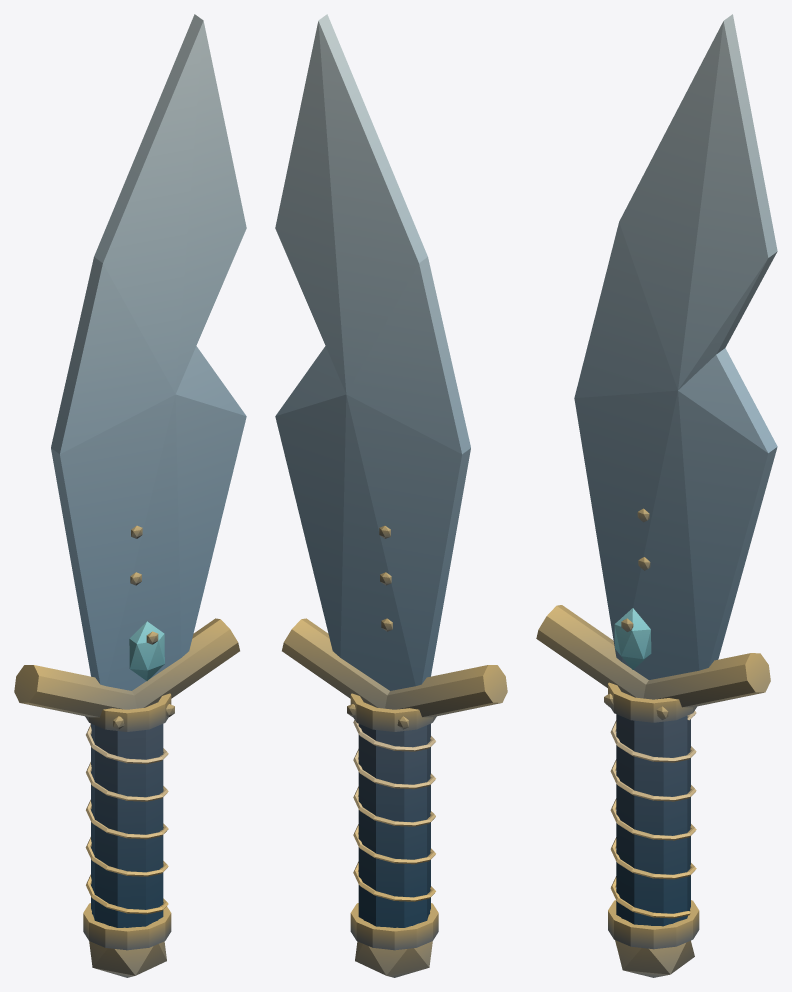
The model's file is daga_aleta_coral.glb.
The picture shows the model from 3 angles, left to right: view 1: azimuth 30°, elevation 25°; view 2: azimuth 150°, elevation 25°; view 3: azimuth 330°, elevation 25°; orthographic projection. The views are drawn at different scales.
Parts seen in each view (by area): view 1: daga_aleta_coral_finished; view 2: daga_aleta_coral_finished; view 3: daga_aleta_coral_finished.
Boxes of the visible parts, x1,y1,x2,y2 form: daga_aleta_coral_finished: (14,14,246,977); daga_aleta_coral_finished: (275,14,507,977); daga_aleta_coral_finished: (536,14,777,977).
Bounding box in the file's own units: 0.3098 × 1.25 × 0.1183.
2 materials, 2 textured.
